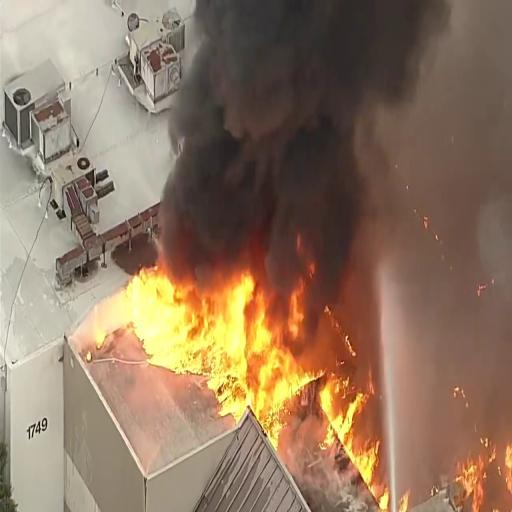fire: (99, 243, 188, 365), (179, 262, 263, 389), (257, 273, 327, 416), (343, 370, 378, 457), (460, 445, 502, 508)
smoke: (197, 1, 427, 260)
